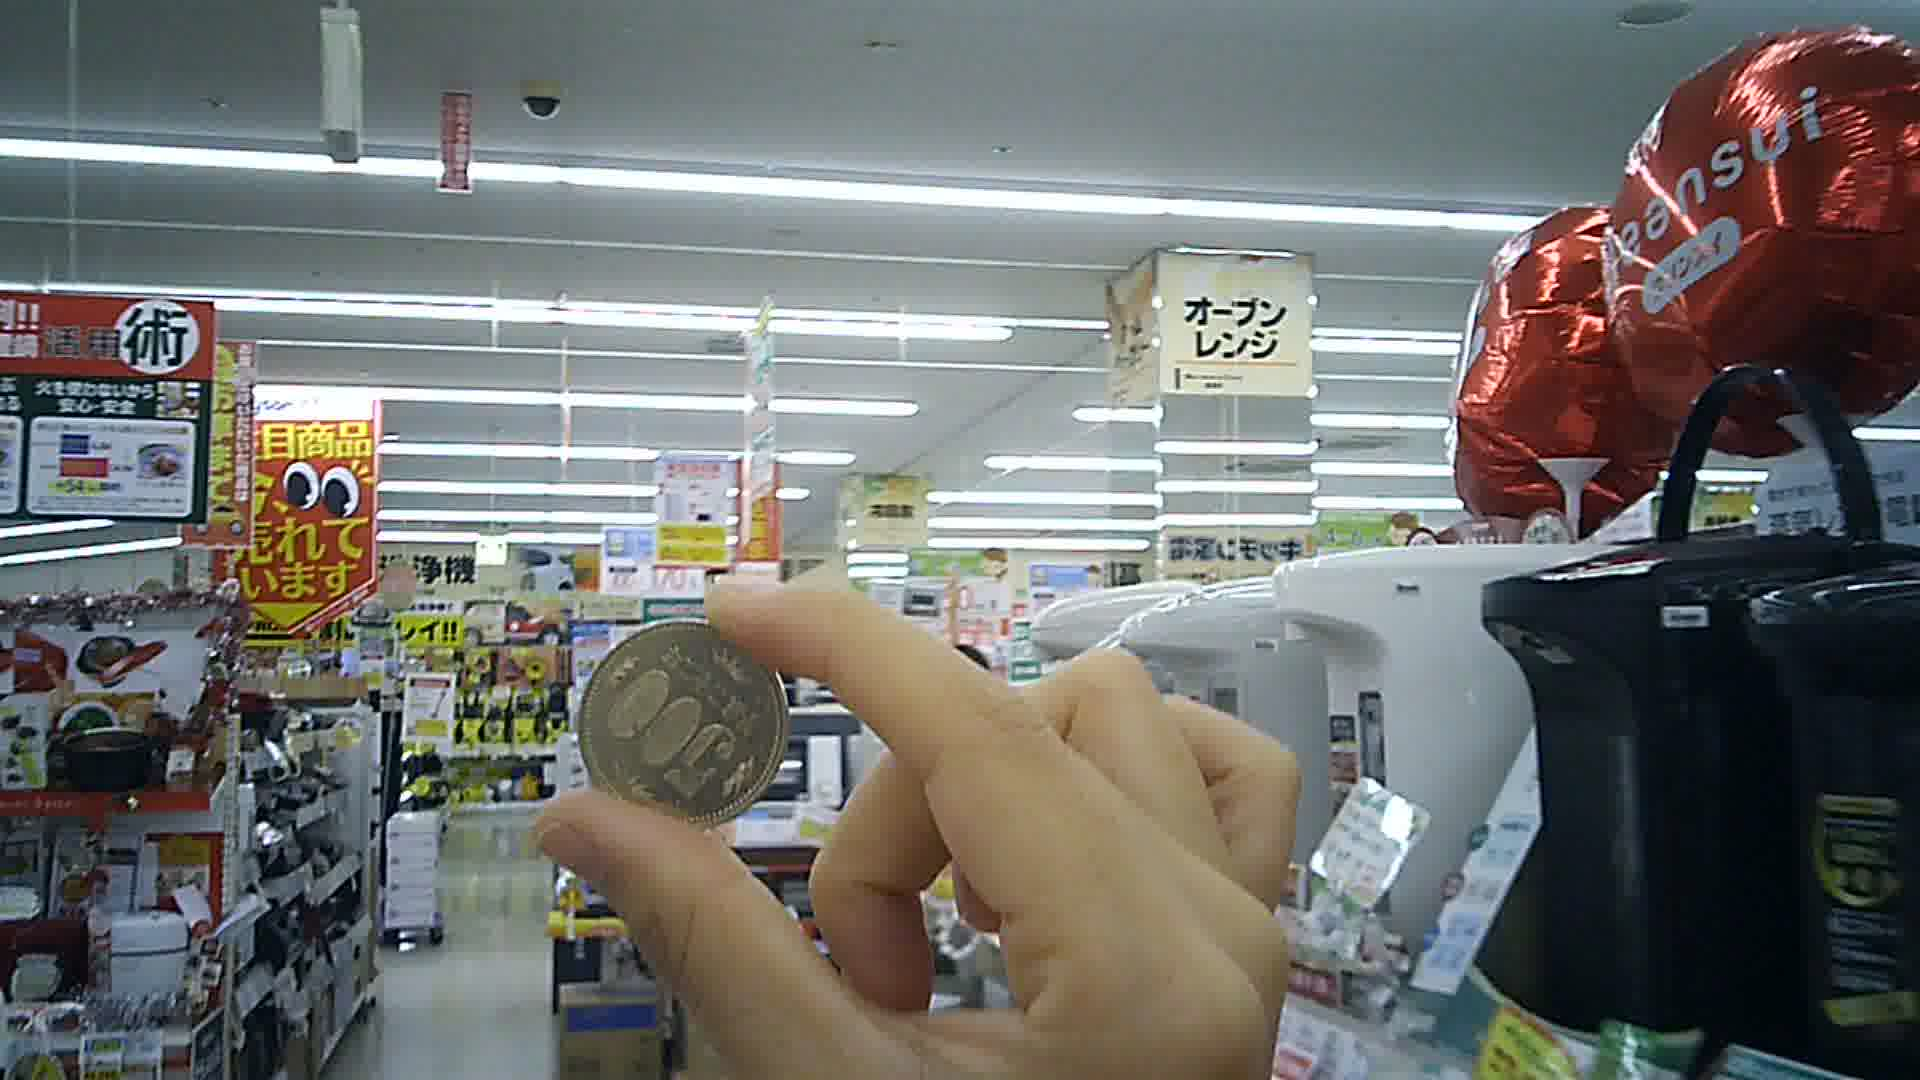500 Yen: (571, 618, 793, 836)
